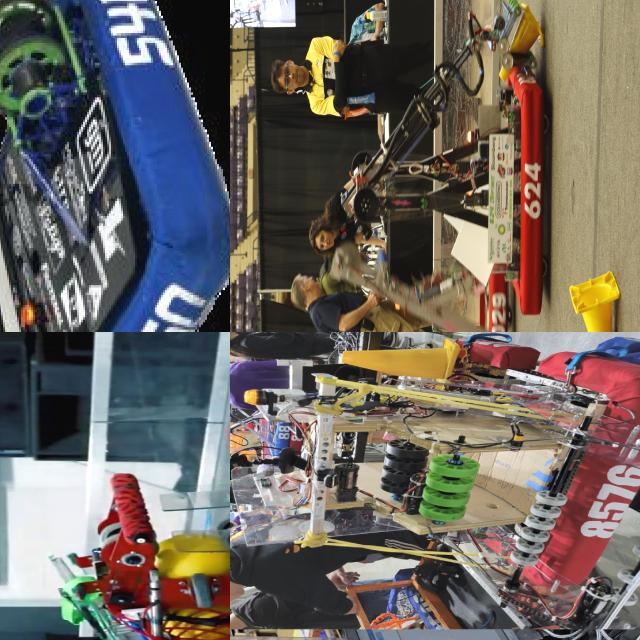FRC-Robots: (249, 332, 640, 608), (0, 0, 230, 332), (349, 0, 559, 299), (307, 151, 545, 332), (35, 468, 230, 640), (230, 400, 301, 477)
